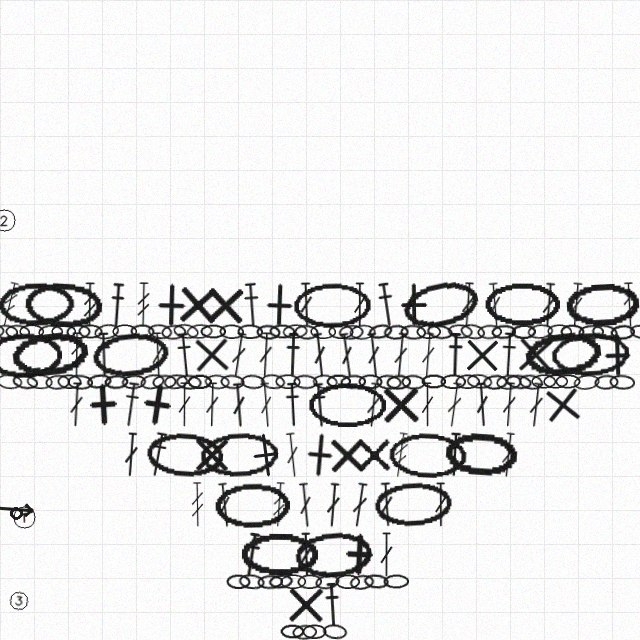chain: (399, 275, 482, 335), (9, 328, 90, 381), (522, 328, 603, 381), (90, 329, 172, 381), (293, 529, 373, 580), (373, 480, 454, 529), (145, 430, 224, 480), (550, 330, 630, 379), (23, 280, 103, 329), (199, 431, 279, 479), (388, 431, 468, 479), (443, 430, 520, 479), (564, 281, 640, 329), (293, 282, 372, 328), (0, 281, 76, 328), (240, 532, 318, 577), (308, 382, 386, 427), (214, 482, 290, 528), (484, 282, 560, 327), (0, 332, 62, 378), (172, 322, 200, 341), (139, 372, 166, 391), (93, 322, 120, 341), (367, 322, 394, 341), (459, 322, 486, 341), (11, 373, 39, 391), (314, 573, 341, 591), (505, 373, 532, 391), (573, 373, 600, 391), (426, 323, 453, 341), (591, 323, 618, 341), (349, 573, 375, 591), (518, 373, 544, 391), (238, 573, 265, 590), (26, 373, 53, 390), (466, 373, 493, 390), (186, 323, 213, 340), (527, 323, 554, 340), (322, 623, 348, 640), (268, 573, 294, 590), (363, 573, 389, 590), (86, 373, 112, 390), (163, 373, 189, 390), (260, 373, 286, 390), (147, 323, 173, 340), (282, 323, 308, 340), (447, 323, 473, 340), (175, 374, 202, 390), (375, 374, 402, 390), (349, 324, 376, 340), (257, 574, 283, 590), (67, 374, 93, 390), (121, 374, 147, 390), (204, 374, 230, 390), (240, 374, 266, 390), (312, 374, 338, 390), (340, 374, 366, 390), (482, 374, 508, 390), (496, 374, 522, 390), (609, 374, 635, 390), (338, 324, 364, 340), (383, 324, 409, 340), (400, 324, 426, 340), (578, 324, 604, 340), (292, 624, 317, 640), (45, 374, 70, 390), (104, 374, 129, 390), (152, 374, 177, 390), (220, 374, 245, 390), (293, 374, 318, 390), (386, 374, 411, 390), (401, 374, 426, 390), (594, 374, 619, 390), (5, 324, 30, 340), (38, 324, 63, 340), (161, 324, 186, 340), (256, 324, 281, 340), (294, 324, 319, 340), (477, 324, 502, 340), (491, 324, 516, 340), (610, 324, 635, 340), (0, 373, 23, 390), (280, 574, 306, 589), (383, 574, 409, 589), (275, 374, 301, 389), (440, 374, 466, 389), (555, 374, 581, 389), (200, 324, 226, 339), (237, 324, 263, 339), (269, 324, 295, 339), (310, 324, 336, 339), (328, 324, 354, 339), (280, 624, 305, 639), (302, 624, 327, 639), (226, 574, 251, 589), (297, 574, 322, 589), (335, 574, 360, 589), (57, 374, 82, 389), (187, 374, 212, 389), (326, 374, 351, 389), (358, 374, 383, 389), (421, 374, 446, 389), (455, 374, 480, 389), (531, 374, 556, 389), (543, 374, 568, 389), (19, 324, 44, 339), (51, 324, 76, 339), (66, 324, 91, 339), (78, 324, 103, 339), (112, 324, 137, 339), (130, 324, 155, 339), (219, 324, 244, 339), (416, 324, 441, 339), (511, 324, 536, 339), (547, 324, 572, 339), (560, 324, 585, 339), (0, 324, 18, 340), (629, 323, 640, 341), (0, 323, 5, 341)
double: (349, 482, 370, 528), (444, 382, 465, 428), (228, 332, 249, 378), (526, 382, 546, 428), (337, 332, 357, 378), (215, 482, 234, 528), (296, 482, 315, 528), (283, 432, 302, 478), (499, 432, 518, 478), (364, 382, 383, 428), (310, 332, 329, 378), (364, 332, 383, 378), (391, 332, 410, 378), (324, 482, 342, 528), (230, 382, 248, 428), (257, 382, 275, 428), (419, 332, 437, 378), (486, 282, 504, 328), (540, 282, 558, 328), (567, 282, 585, 328), (122, 432, 140, 477), (473, 382, 491, 427), (500, 382, 518, 427), (459, 282, 477, 327), (378, 482, 395, 527), (68, 382, 85, 427), (257, 332, 274, 377), (298, 532, 314, 577), (204, 382, 220, 427), (150, 332, 166, 377), (298, 282, 314, 327), (379, 532, 394, 577), (433, 482, 448, 527), (177, 382, 192, 427), (420, 382, 435, 427), (352, 282, 367, 327)
half_double: (146, 431, 170, 478), (119, 381, 143, 428), (240, 531, 263, 578), (375, 281, 398, 328), (174, 332, 195, 378), (241, 282, 262, 328), (310, 382, 330, 428), (107, 282, 127, 328), (323, 582, 342, 627), (445, 432, 464, 477), (283, 382, 302, 427), (499, 332, 518, 377), (95, 332, 113, 377), (284, 332, 302, 377), (446, 332, 464, 377)
noise: (11, 504, 37, 530), (0, 500, 36, 518), (7, 589, 31, 613), (0, 207, 17, 233), (8, 505, 24, 521)
single: (132, 379, 183, 430), (241, 430, 291, 480), (538, 380, 587, 429), (296, 431, 344, 479), (336, 531, 383, 578), (80, 381, 127, 428), (188, 331, 235, 378), (512, 331, 559, 378), (174, 281, 221, 328), (324, 432, 370, 478), (459, 332, 505, 378), (594, 332, 640, 378), (148, 282, 194, 328), (202, 282, 248, 328), (256, 282, 302, 328), (283, 582, 328, 627), (189, 432, 234, 477), (351, 432, 396, 477), (378, 382, 423, 427), (391, 282, 436, 327)
treble: (0, 281, 22, 328), (390, 432, 411, 478), (270, 482, 288, 527), (621, 282, 638, 327), (190, 482, 205, 527), (69, 332, 84, 377), (82, 282, 97, 327), (136, 282, 151, 327)
